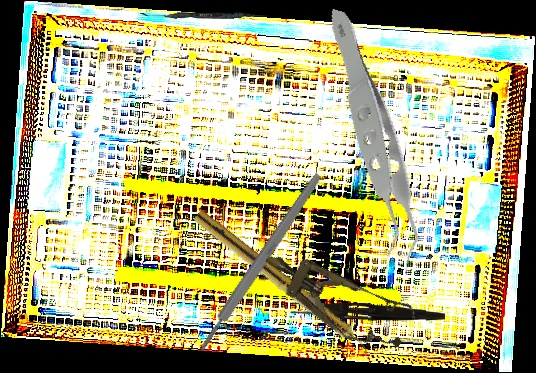Dressing Forceps: (291, 302, 446, 322)
Handpiece: (190, 208, 375, 359)
Scalpel Handle: (194, 170, 325, 355)
Spatula Surgical: (139, 10, 272, 21)
Speculum: (251, 231, 421, 363)
Tissue Forceps: (267, 8, 472, 275)
